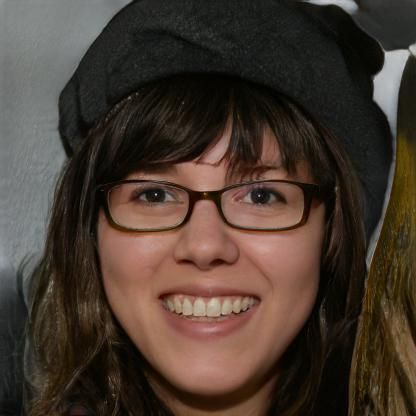glasses: (99, 169, 321, 236)
